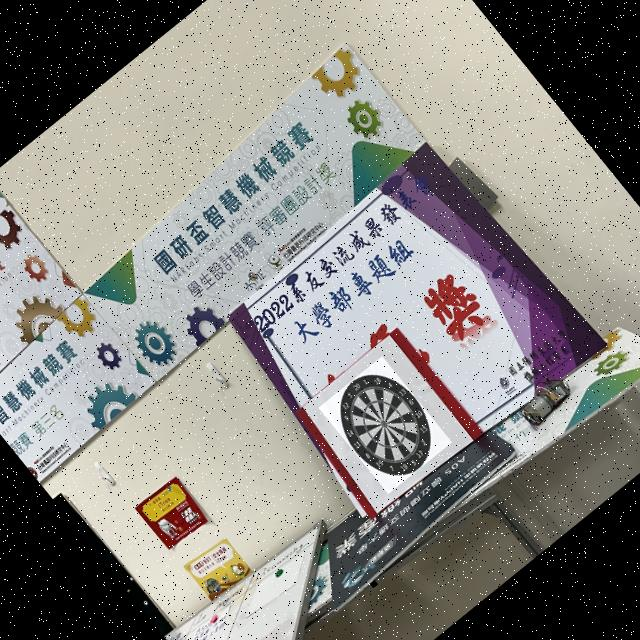archery-targets: (319, 356, 453, 494)
